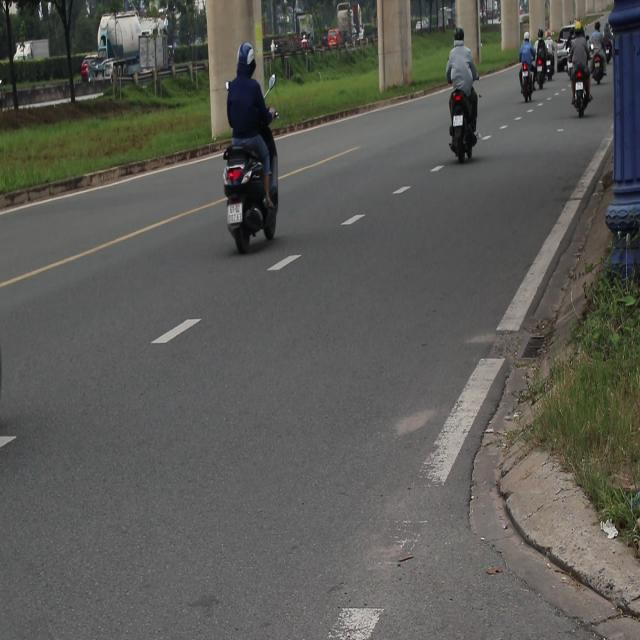car: (556, 26, 578, 68)
motorbike: (223, 146, 277, 254), (446, 89, 480, 164), (571, 62, 593, 120), (517, 57, 535, 106), (590, 52, 607, 84), (530, 52, 544, 84), (542, 42, 552, 83), (603, 35, 616, 64)
truck: (129, 22, 176, 86)
